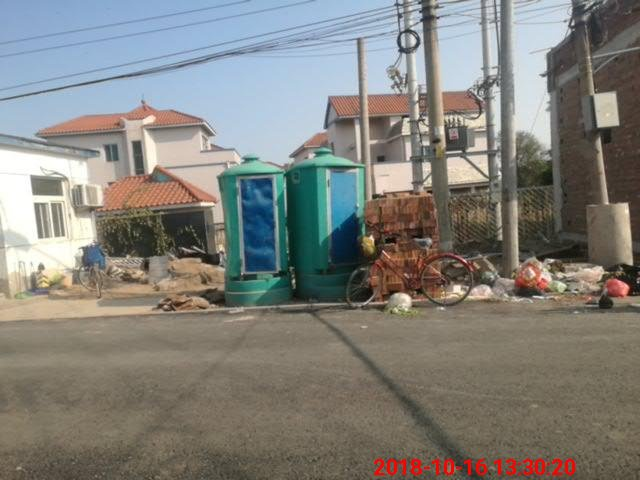trash: (343, 206, 640, 334)
